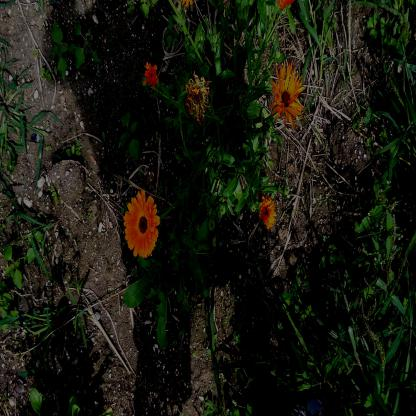marigold: (124, 192, 157, 256), (273, 63, 301, 124)
